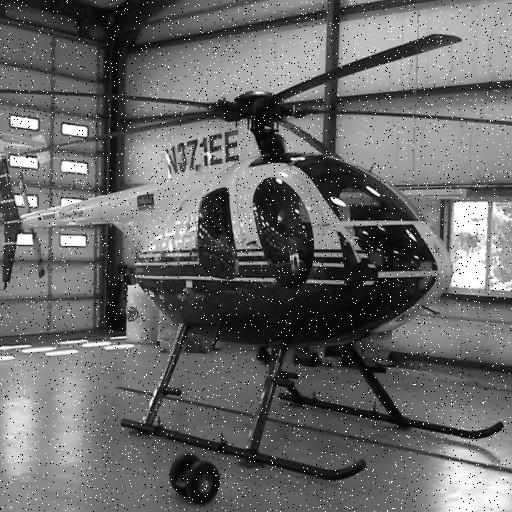helicopter: (1, 89, 512, 489)
